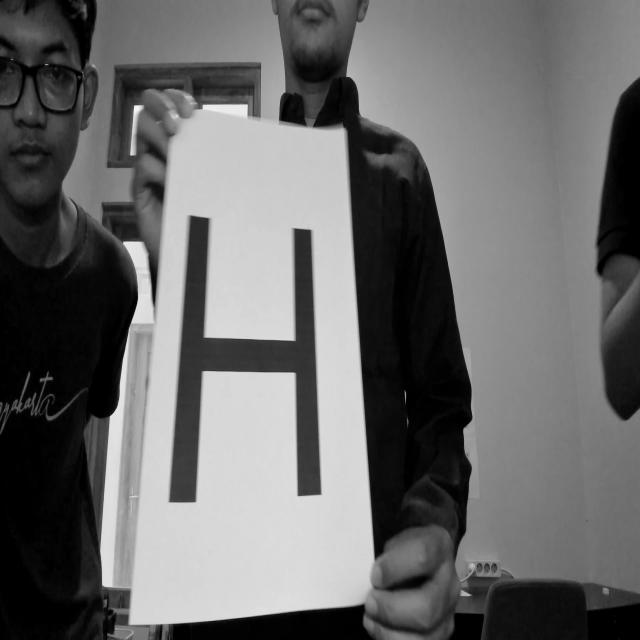h: (159, 209, 341, 510)
